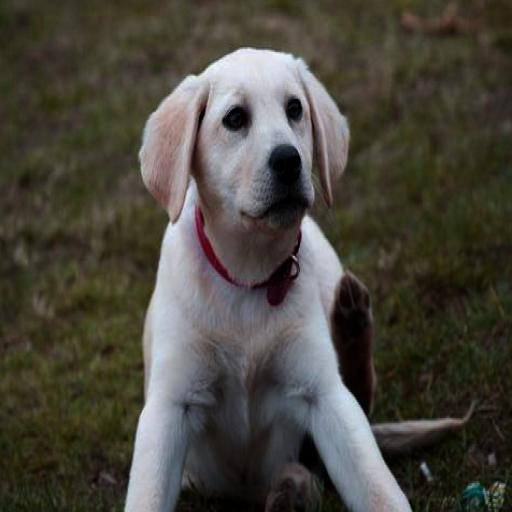dog_face: (146, 36, 351, 240)
